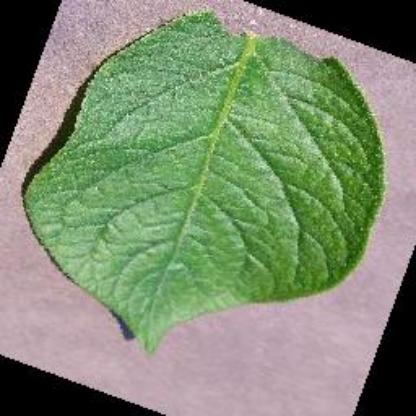Healthy-plant: (7, 4, 405, 393)
